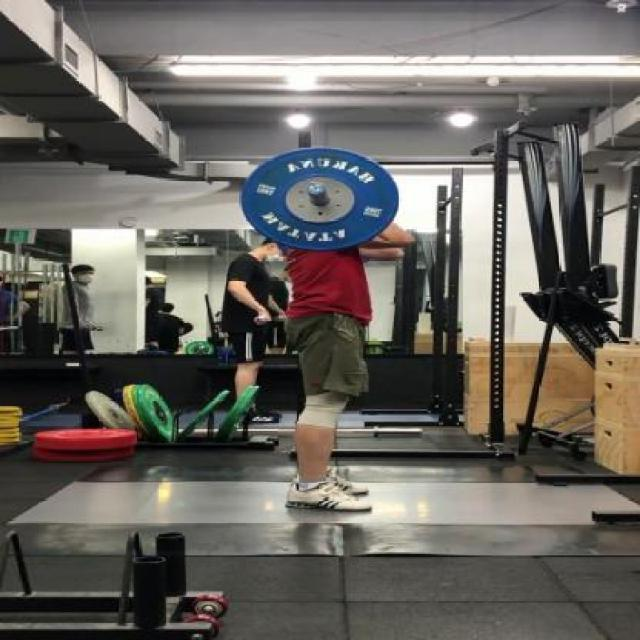Barbell: (302, 181, 327, 196)
